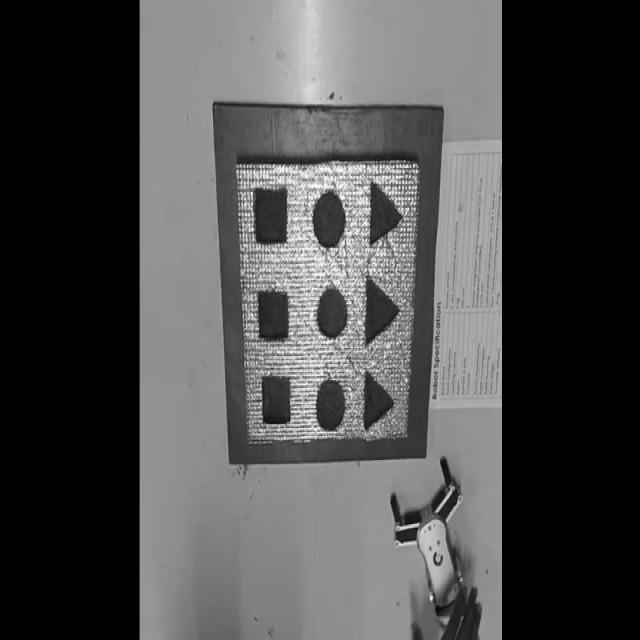mtcircle: (313, 191, 346, 248), (317, 286, 348, 338), (316, 378, 345, 431)
mtcube: (253, 186, 289, 245), (258, 289, 289, 340), (261, 374, 291, 425)
mttriangle: (364, 275, 400, 345), (368, 182, 402, 246), (363, 371, 394, 432)
wb: (236, 157, 418, 445)
